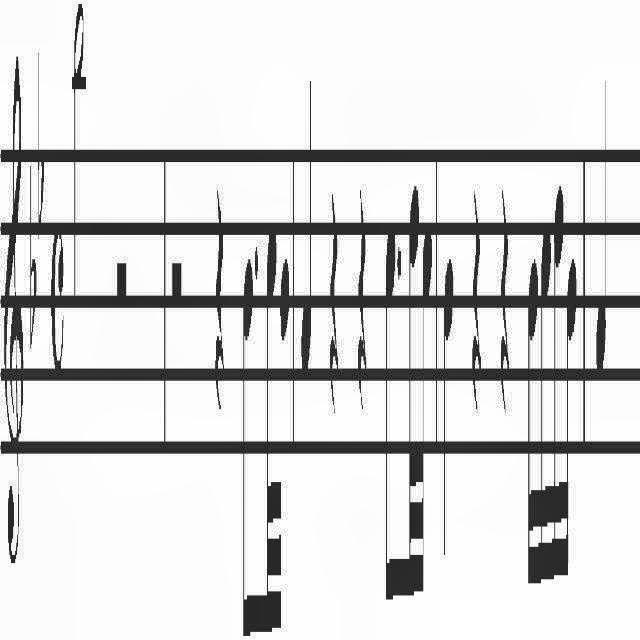Bass-clef: (4, 47, 24, 577)
Bemol: (29, 147, 37, 356), (36, 40, 44, 236)
Eighth-note: (242, 240, 254, 640), (384, 215, 396, 611)
Half-note: (72, 0, 84, 312)
Quarter-note: (300, 62, 312, 386), (442, 249, 454, 567), (596, 69, 606, 387)
Quarter-rest: (214, 181, 226, 415), (500, 175, 510, 421), (329, 187, 339, 421), (471, 186, 481, 418), (358, 178, 367, 420)
Sixteenth-note: (552, 180, 564, 608), (540, 218, 552, 598), (564, 252, 576, 604), (526, 259, 538, 593)
